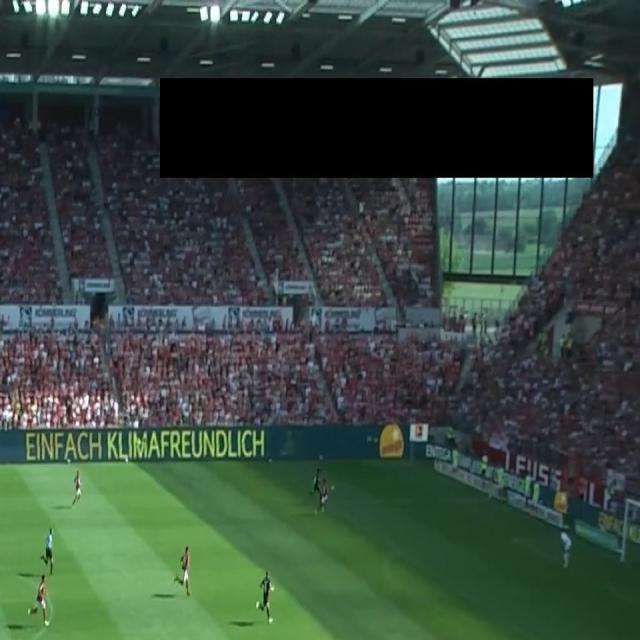ball: (330, 483, 334, 491)
